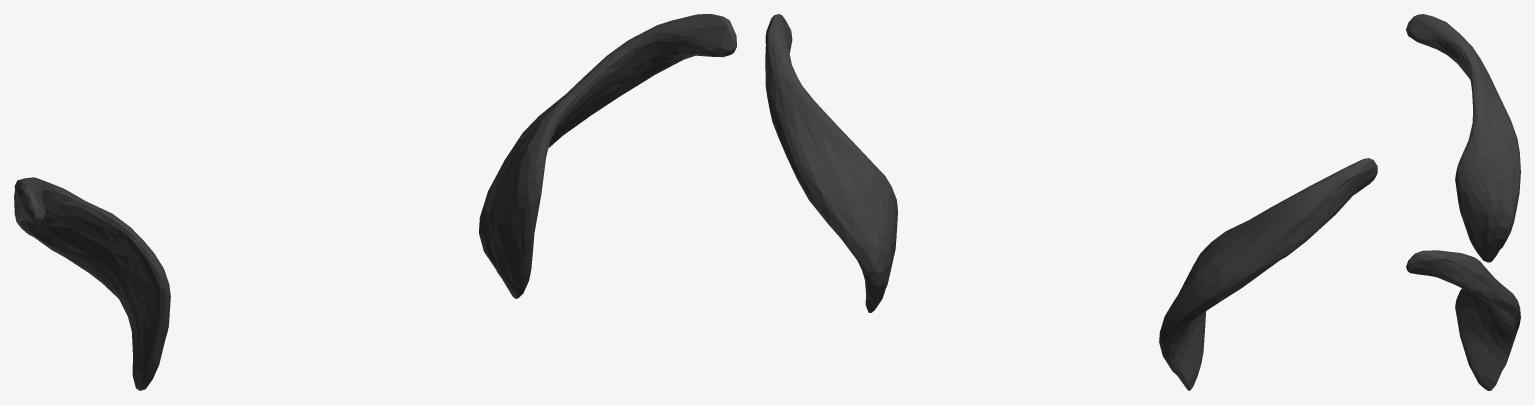
The model's file is m_popliteus.glb.
3 views of the same model, side by side, from view 1: azimuth 30°, elevation 25°; view 2: azimuth 150°, elevation 25°; view 3: azimuth 270°, elevation 25° (orthographic). The views are drawn at different scales.
Visible parts, largest first — view 1: m_popliteus; view 2: m_popliteus; view 3: m_popliteus.
Boxes of the visible parts, left/top/right/bottom form: m_popliteus: left=14, top=14, right=736, bottom=390; m_popliteus: left=765, top=14, right=1377, bottom=390; m_popliteus: left=1406, top=14, right=1520, bottom=390.
Bounding box in the file's own units: 0.00761 × 0.00285 × 0.00153.
1 material, 1 textured.
